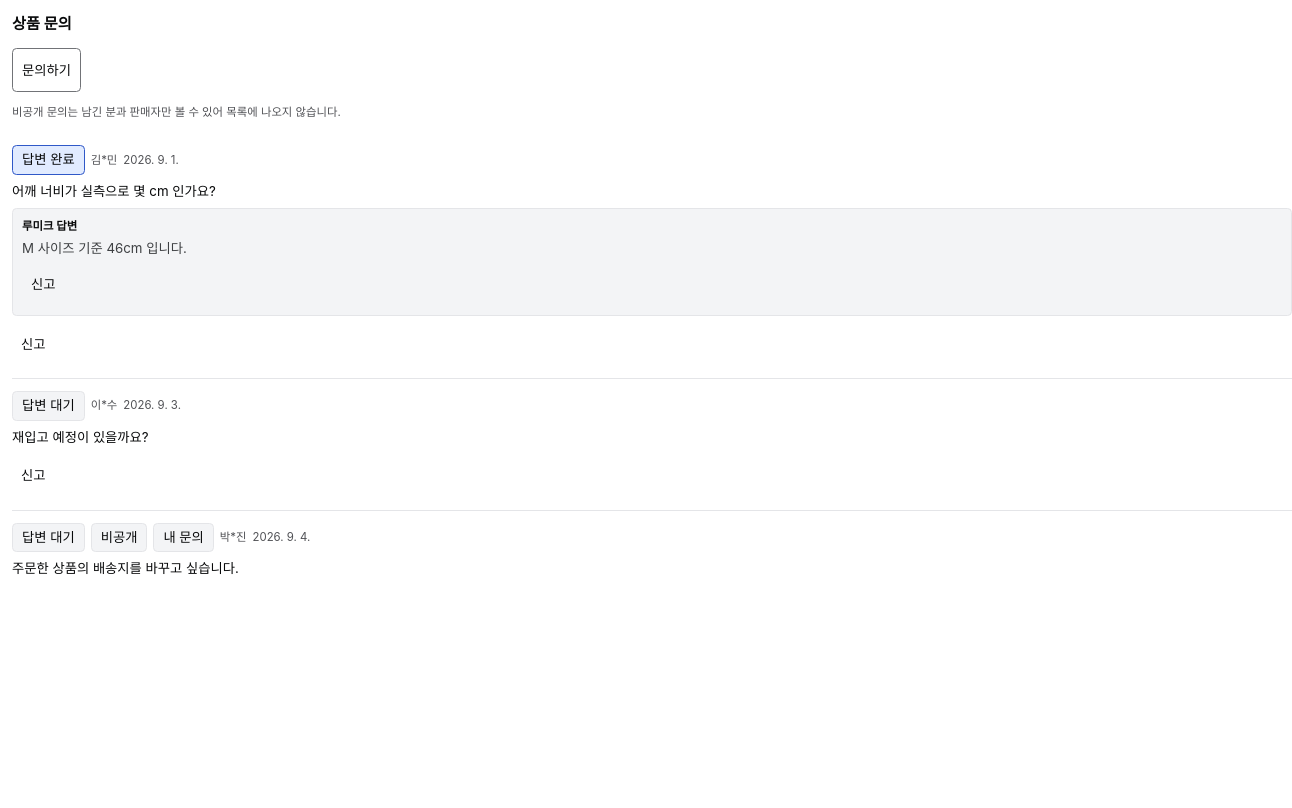
Scenario: F1 문의 작성 › says where to fix an empty body before spending a round trip
Expected: the list named "상품 문의 목록" is shown, [12,133,1291,591]
Click the button "문의하기".
click(46, 70)  # box [12,48,81,92]
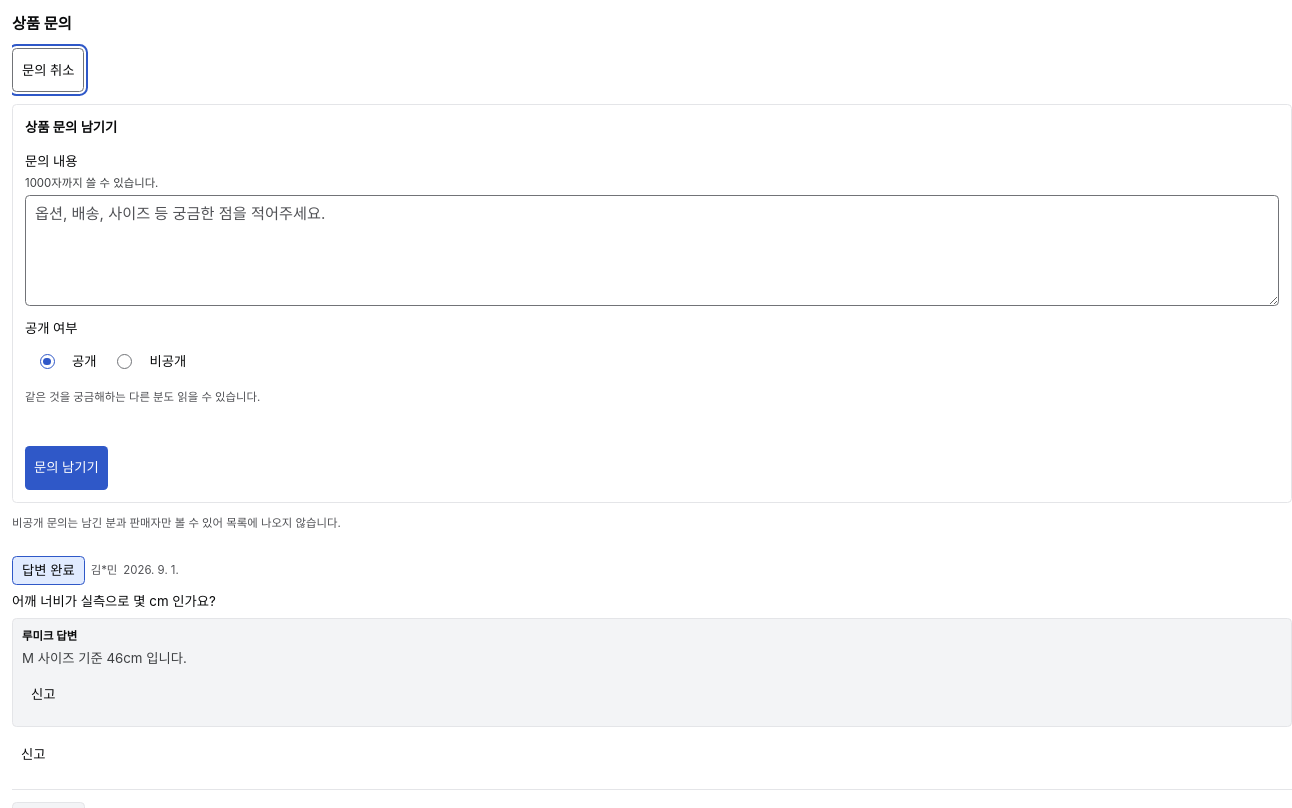
Click the button "문의 남기기".
click(66, 468)  # box [25,446,108,490]
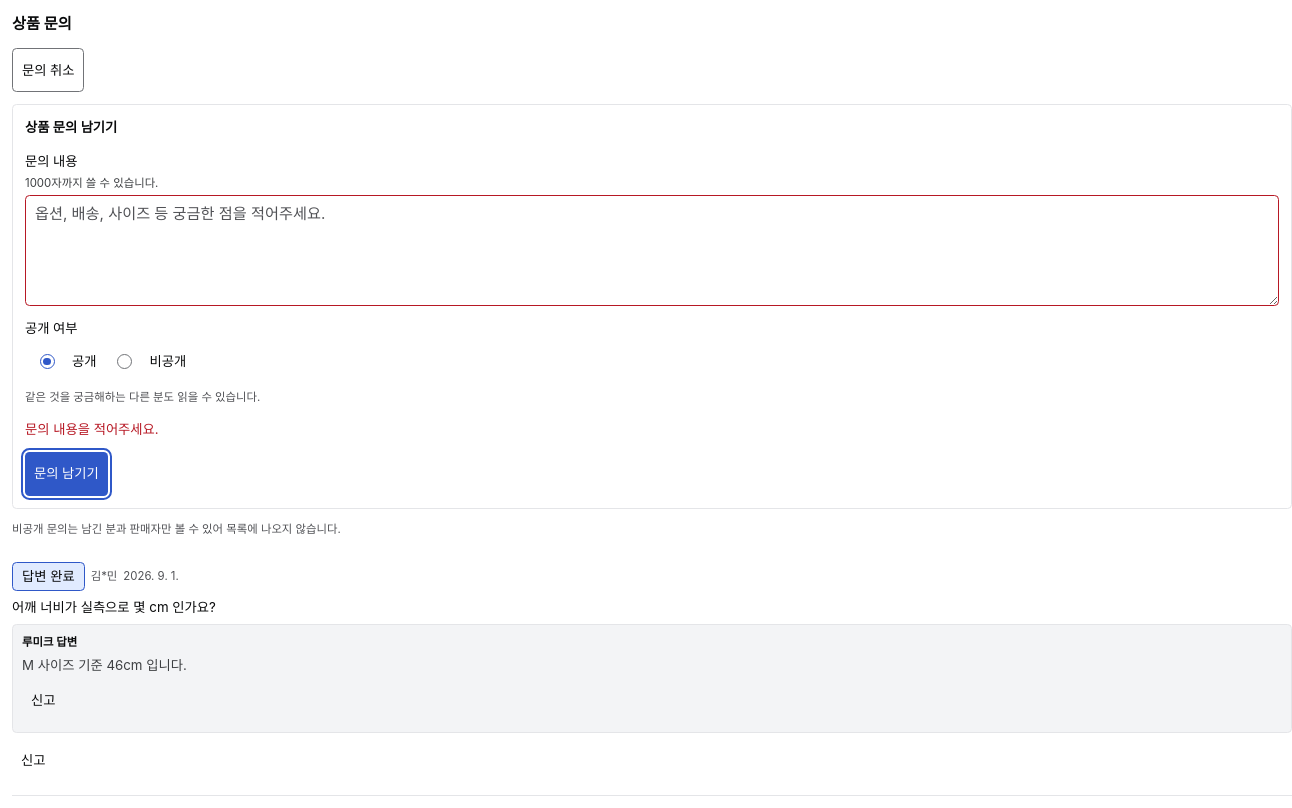
Expected: the text "문의 내용을 적어주세요." is shown, [25,420,159,436]
